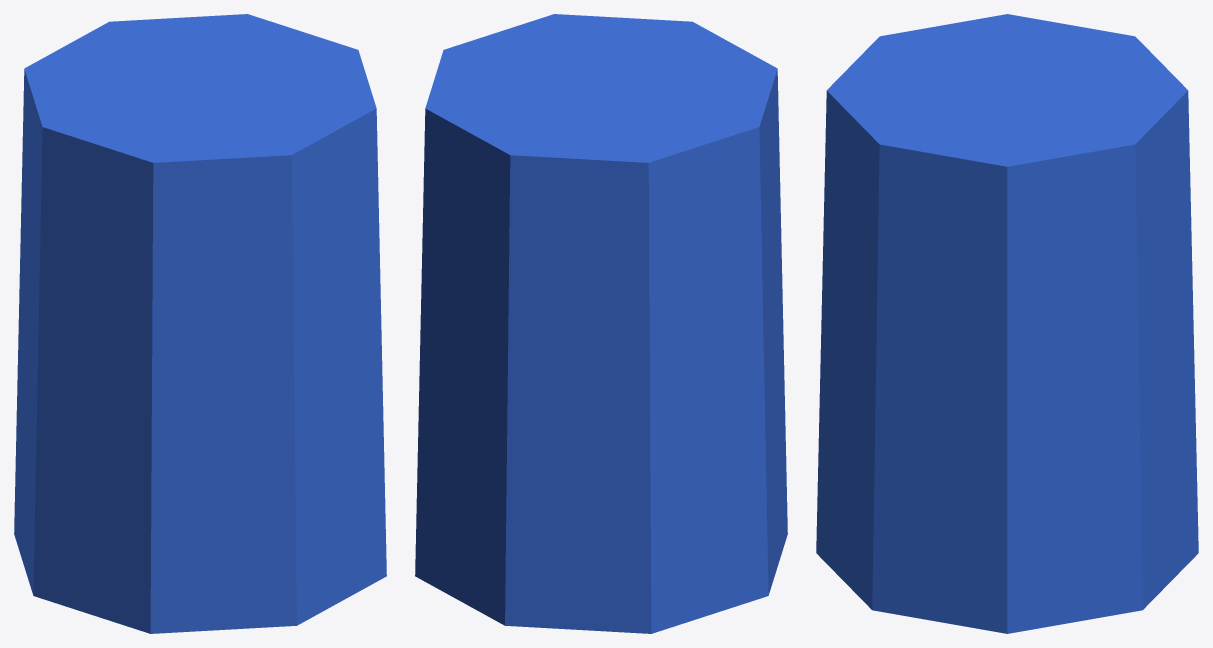
File: Collision_Firepit.fbx
The picture shows the model from 3 angles, left to right: view 1: azimuth 30°, elevation 25°; view 2: azimuth 150°, elevation 25°; view 3: azimuth 270°, elevation 25°; orthographic projection.
Visible parts, largest first — view 1: UCX_Firepit_1; view 2: UCX_Firepit_1; view 3: UCX_Firepit_1.
Part boxes in pixels (x1,y1,x2,y2): UCX_Firepit_1: (14, 14, 386, 633); UCX_Firepit_1: (415, 14, 787, 633); UCX_Firepit_1: (816, 14, 1198, 633).
Size of the model in its own units: 76.39 by 102 by 76.39.
